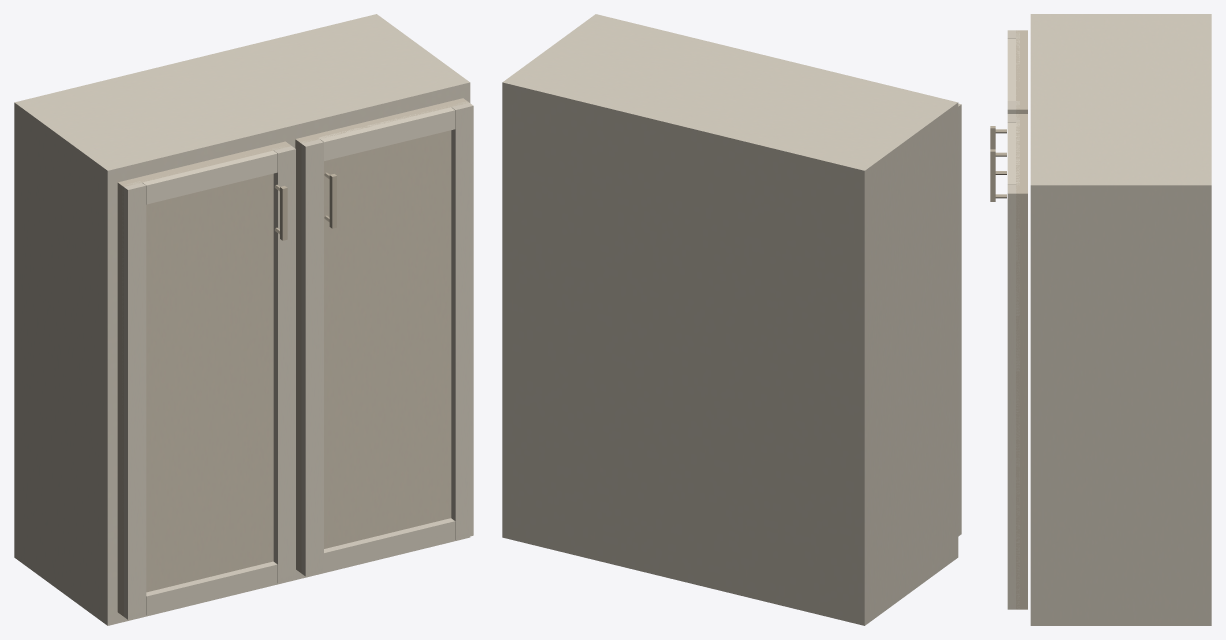
The model's file is cabinet_wall.glb.
3 renders of one model, left to right at view 1: azimuth 30°, elevation 25°; view 2: azimuth 150°, elevation 25°; view 3: azimuth 270°, elevation 25°, orthographic. The views are drawn at different scales.
Parts seen in each view (by area): view 1: home_cabinet_wall; view 2: home_cabinet_wall; view 3: home_cabinet_wall.
Part boxes in pixels (left/top/right/bottom): home_cabinet_wall: left=14, top=14, right=473, bottom=625; home_cabinet_wall: left=502, top=14, right=961, bottom=625; home_cabinet_wall: left=990, top=14, right=1211, bottom=625.
Size of the model in its own units: 0.6 by 0.72 by 0.328.
Materials: 1 (1 with a texture image).
